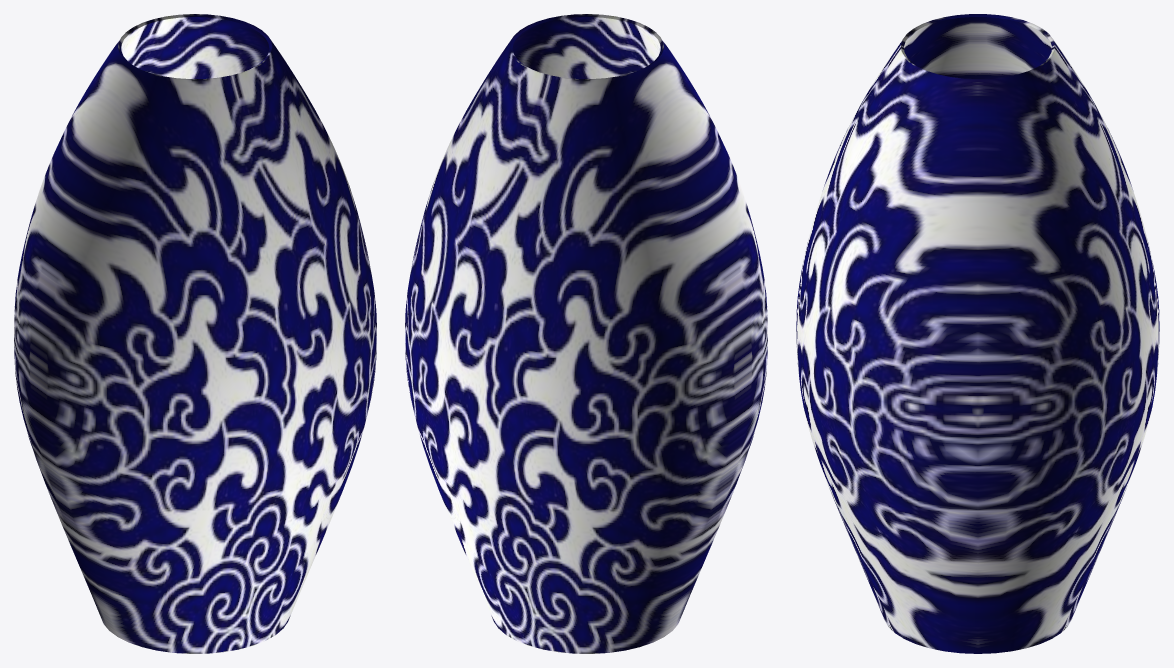
The picture shows the model from 3 angles, left to right: view 1: azimuth 30°, elevation 25°; view 2: azimuth 150°, elevation 25°; view 3: azimuth 270°, elevation 25°; orthographic projection.
Parts seen in each view (by area): view 1: weizhidi_com_127; view 2: weizhidi_com_127; view 3: weizhidi_com_127.
Boxes of the visible parts, bbox=[...] form: weizhidi_com_127: bbox=[14, 14, 376, 653]; weizhidi_com_127: bbox=[405, 14, 767, 653]; weizhidi_com_127: bbox=[796, 14, 1159, 653].
Bounding box in the file's own units: 147 × 253 × 147.
1 material, 1 textured.
